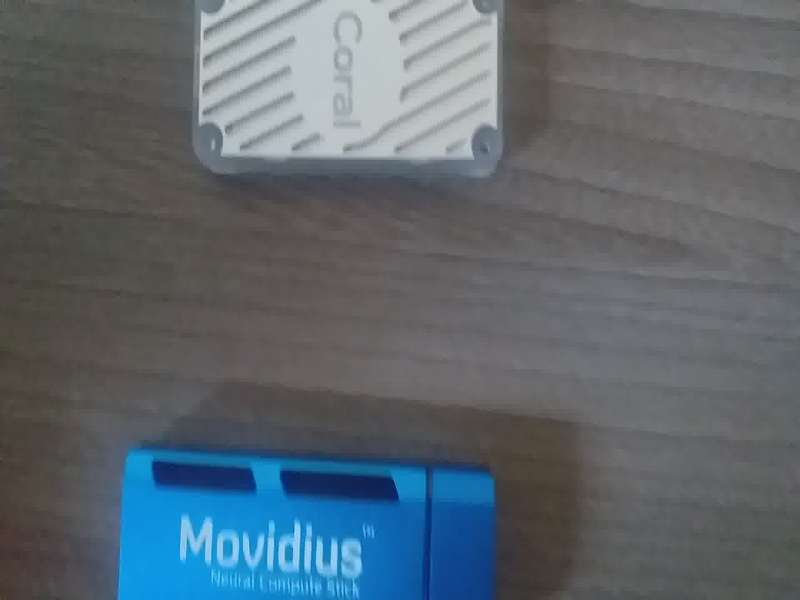coral: (181, 1, 526, 189)
movidius: (108, 435, 500, 600)
